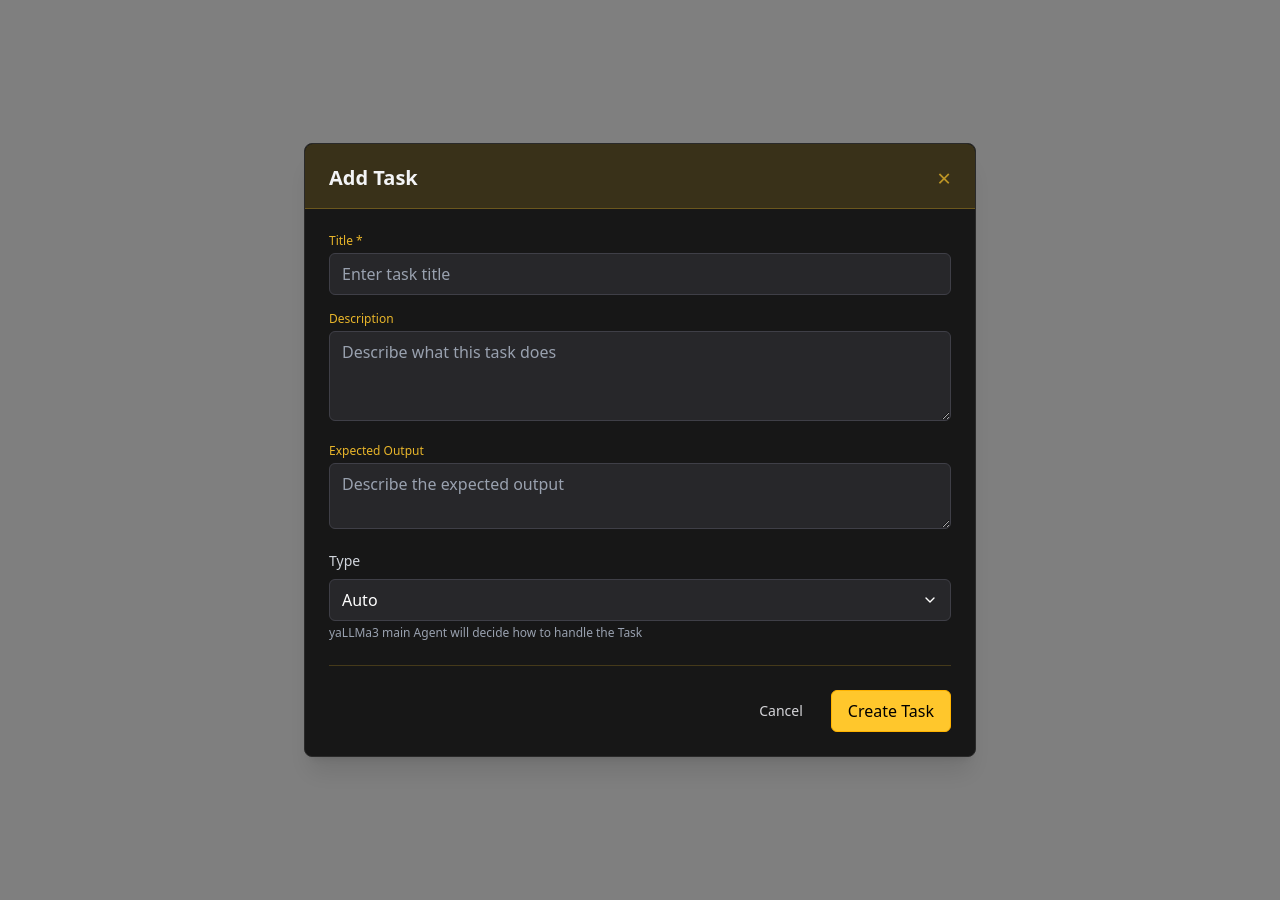
Test: TaskModal Component › Type Selection and Executor Fields › should show agent selector when type is specific-agent
The width and height of the screenshot is (1280, 900).
Click the dropdown "Auto" at point(640, 600), box [329,579,951,621]
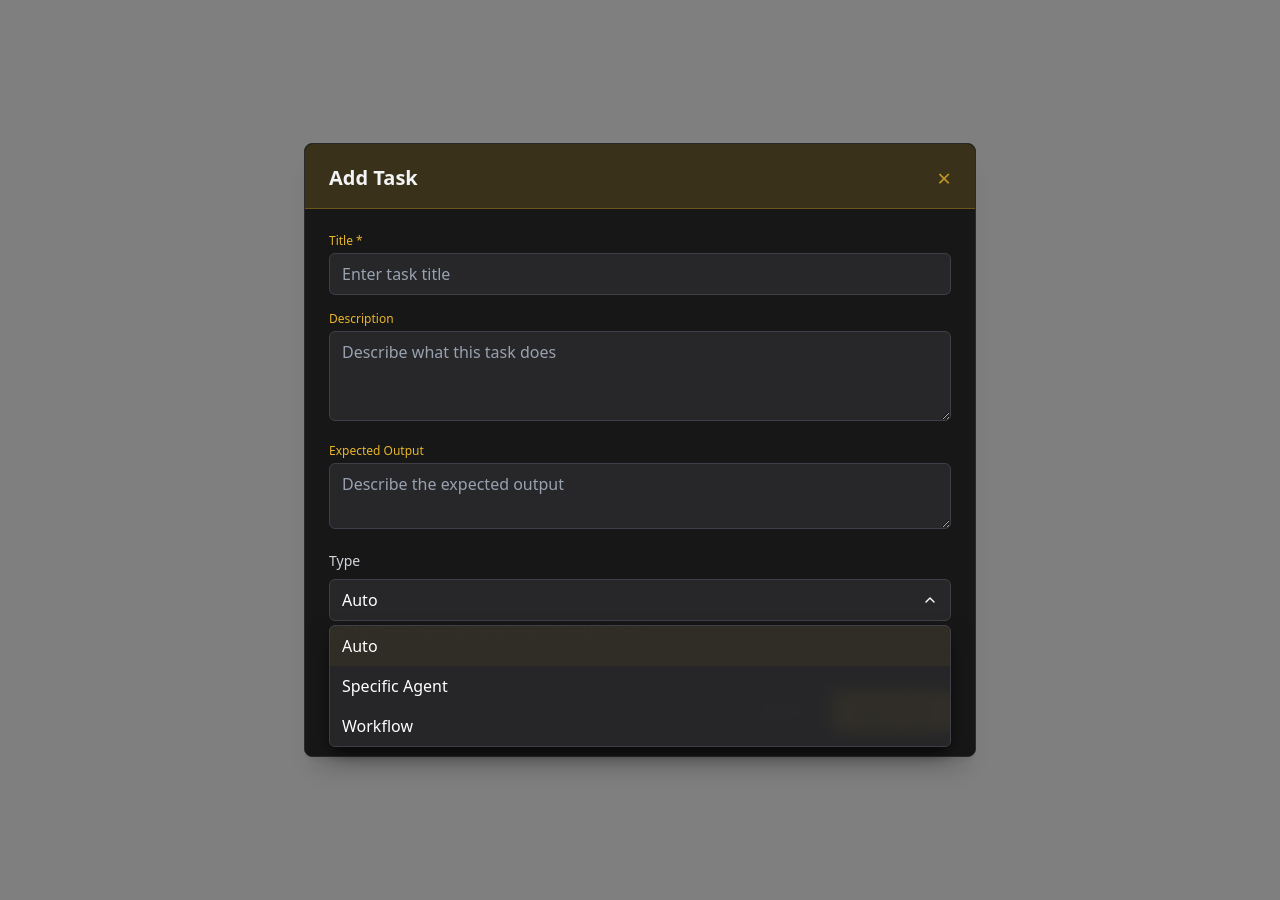
Click the option "Specific Agent" at point(395, 686), box [342,675,448,697]
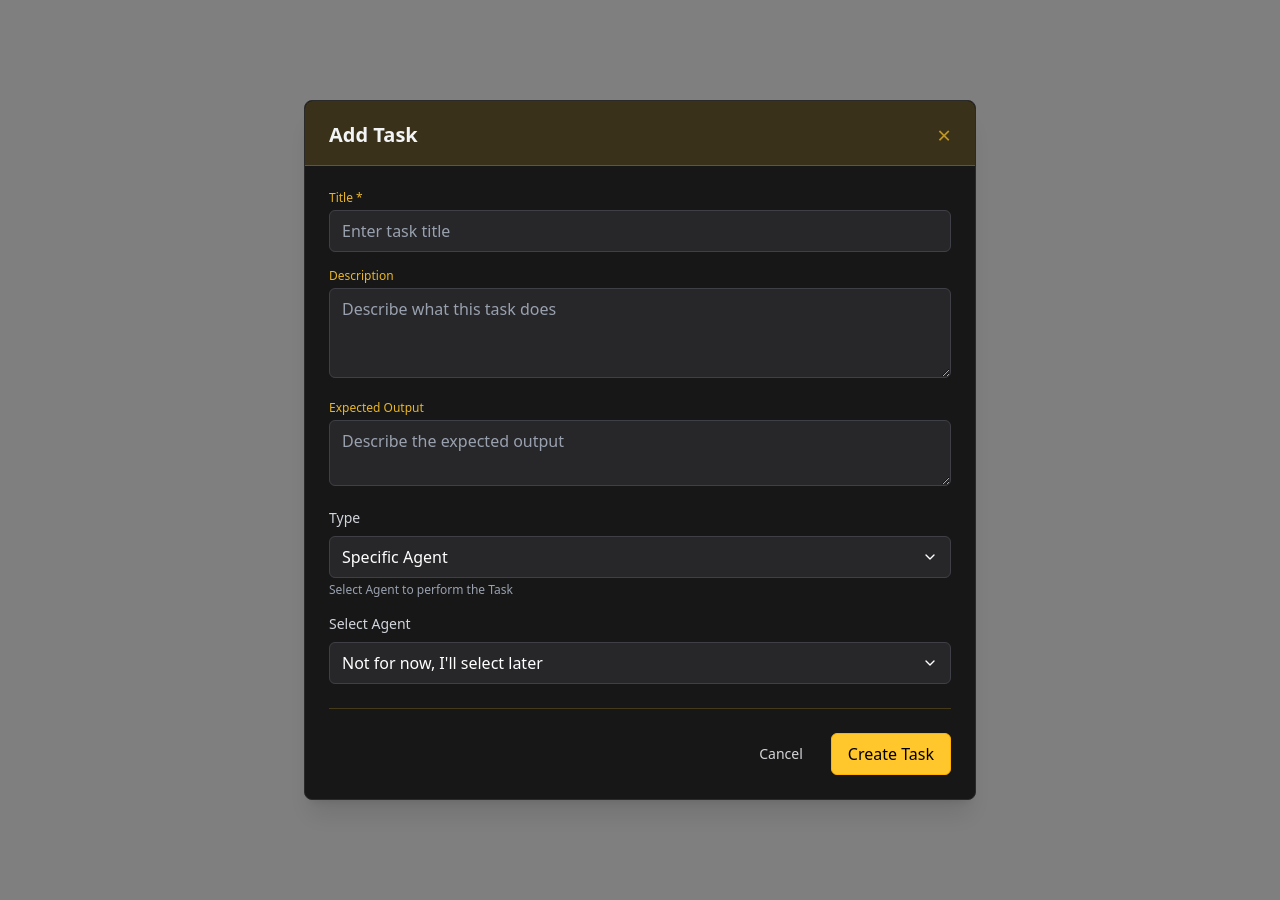
Check: the text "Select Agent" is shown, box [329,614,411,633]
